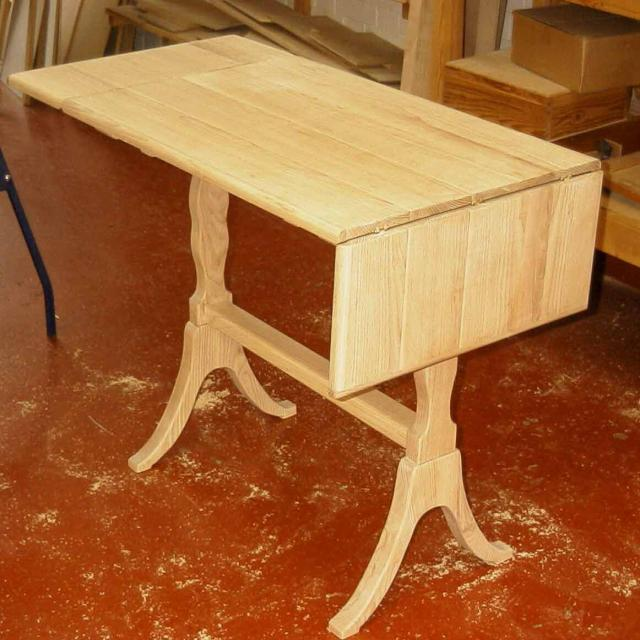table: (11, 27, 611, 640)
